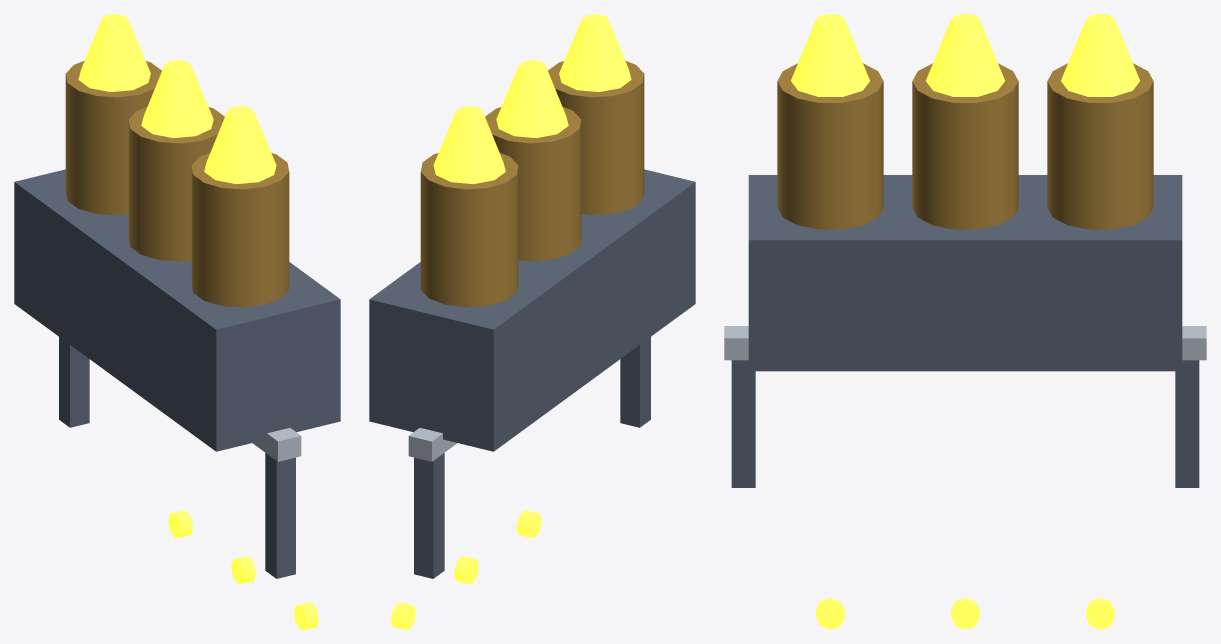
The model's file is tower_nova_rate_s4.glb.
3 views of the same model, side by side, from view 1: azimuth 30°, elevation 25°; view 2: azimuth 150°, elevation 25°; view 3: azimuth 270°, elevation 25° (orthographic). The views are drawn at different scales.
Parts seen in each view (by area): view 1: nova_hopper_ext, nova_shell_b0, nova_shell_b2, nova_shell_b1, nova_shell_b_fuse0, nova_shell_b_fuse1, nova_shell_b_fuse2, nova_hoist_rail_post-0.46, nova_hoist_rail_post0.46, nova_hoist_rail, nova_ready_lamp-0.28, nova_ready_lamp0 (+1 smaller); view 2: nova_hopper_ext, nova_shell_b2, nova_shell_b0, nova_shell_b1, nova_shell_b_fuse2, nova_shell_b_fuse1, nova_shell_b_fuse0, nova_hoist_rail_post0.46, nova_hoist_rail_post-0.46, nova_hoist_rail, nova_ready_lamp0, nova_ready_lamp0.28 (+1 smaller); view 3: nova_hopper_ext, nova_shell_b0, nova_shell_b1, nova_shell_b2, nova_shell_b_fuse1, nova_shell_b_fuse0, nova_shell_b_fuse2, nova_hoist_rail_post-0.46, nova_hoist_rail_post0.46, nova_hoist_rail, nova_ready_lamp-0.28, nova_ready_lamp0 (+1 smaller).
Part boxes in pixels (left/top/right/bottom): nova_hopper_ext: left=14, top=169, right=340, bottom=451; nova_shell_b0: left=191, top=153, right=289, bottom=307; nova_shell_b2: left=65, top=60, right=161, bottom=215; nova_shell_b1: left=128, top=106, right=224, bottom=261; nova_shell_b_fuse0: left=204, top=106, right=276, bottom=184; nova_shell_b_fuse1: left=141, top=60, right=213, bottom=138; nova_shell_b_fuse2: left=78, top=14, right=150, bottom=91; nova_hoist_rail_post-0.46: left=265, top=453, right=295, bottom=578; nova_hoist_rail_post0.46: left=59, top=337, right=89, bottom=427; nova_hoist_rail: left=252, top=428, right=301, bottom=461; nova_ready_lamp-0.28: left=294, top=602, right=318, bottom=629; nova_ready_lamp0: left=231, top=556, right=255, bottom=583; nova_hopper_ext: left=369, top=169, right=695, bottom=451; nova_shell_b2: left=420, top=153, right=518, bottom=307; nova_shell_b0: left=548, top=60, right=644, bottom=215; nova_shell_b1: left=485, top=106, right=581, bottom=261; nova_shell_b_fuse2: left=433, top=106, right=505, bottom=184; nova_shell_b_fuse1: left=496, top=60, right=568, bottom=138; nova_shell_b_fuse0: left=559, top=14, right=631, bottom=91; nova_hoist_rail_post0.46: left=414, top=453, right=444, bottom=578; nova_hoist_rail_post-0.46: left=620, top=337, right=650, bottom=427; nova_hoist_rail: left=408, top=428, right=457, bottom=461; nova_ready_lamp0: left=454, top=556, right=478, bottom=583; nova_ready_lamp0.28: left=391, top=602, right=415, bottom=629; nova_hopper_ext: left=748, top=175, right=1182, bottom=371; nova_shell_b0: left=777, top=63, right=883, bottom=229; nova_shell_b1: left=912, top=63, right=1018, bottom=229; nova_shell_b2: left=1047, top=63, right=1153, bottom=229; nova_shell_b_fuse1: left=926, top=14, right=1004, bottom=96; nova_shell_b_fuse0: left=791, top=14, right=869, bottom=96; nova_shell_b_fuse2: left=1061, top=14, right=1139, bottom=96; nova_hoist_rail_post-0.46: left=731, top=360, right=755, bottom=487; nova_hoist_rail_post0.46: left=1175, top=360, right=1199, bottom=487; nova_hoist_rail: left=724, top=326, right=1206, bottom=360; nova_ready_lamp-0.28: left=816, top=597, right=844, bottom=629; nova_ready_lamp0: left=951, top=597, right=979, bottom=629.
Bounding box in the file's own units: 0.345 × 1.31 × 1.
